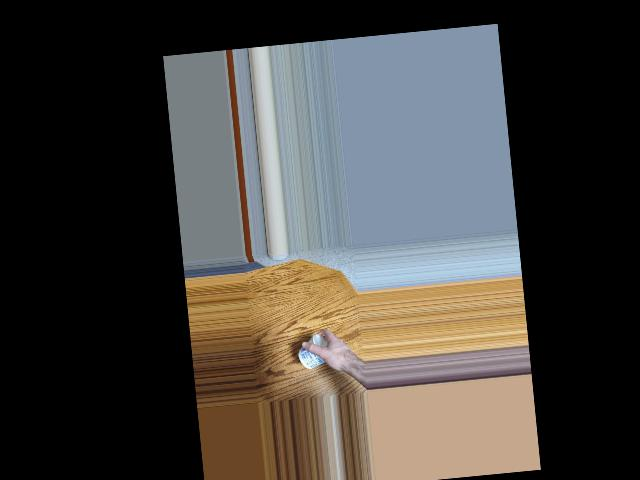cotage: (300, 332, 335, 373)
